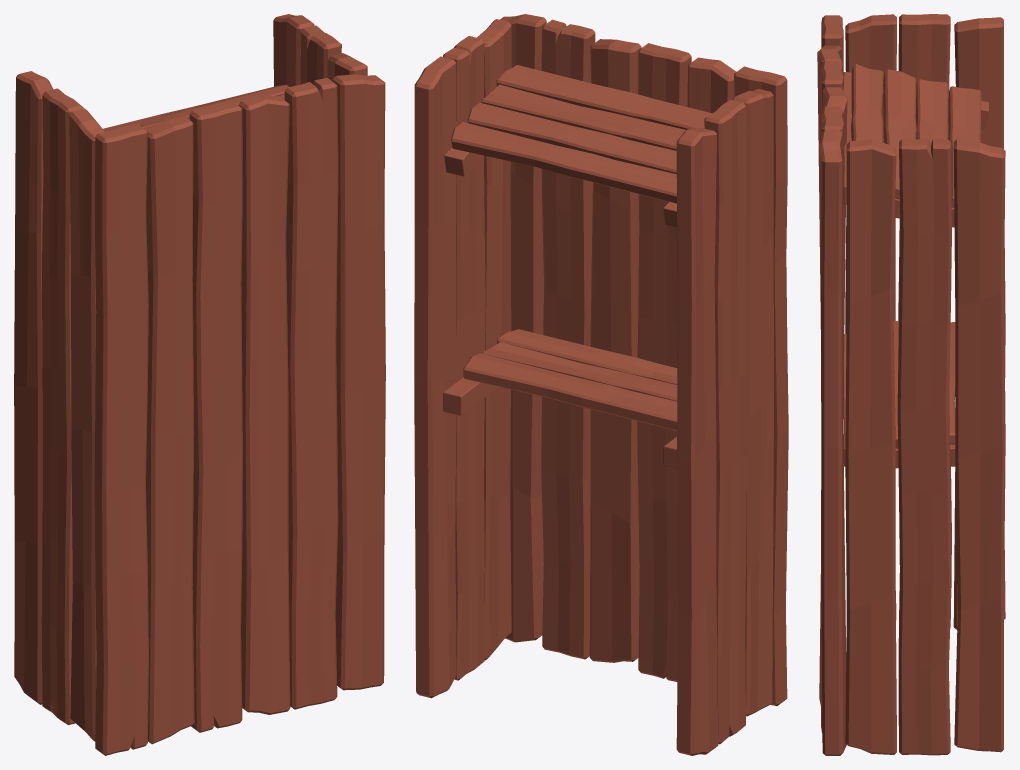
The model's file is reading desk.fbx.
3 renders of one model, left to right at view 1: azimuth 30°, elevation 25°; view 2: azimuth 150°, elevation 25°; view 3: azimuth 270°, elevation 25°, orthographic. The views are drawn at different scales.
Parts seen in each view (by area): view 1: reading desk; view 2: reading desk; view 3: reading desk.
Part boxes in pixels (x1,y1,x2,y2): reading desk: [14, 14, 385, 755]; reading desk: [414, 14, 788, 755]; reading desk: [817, 14, 1005, 755].
Bounding box in the file's own units: 62.65 × 130 × 36.37.
